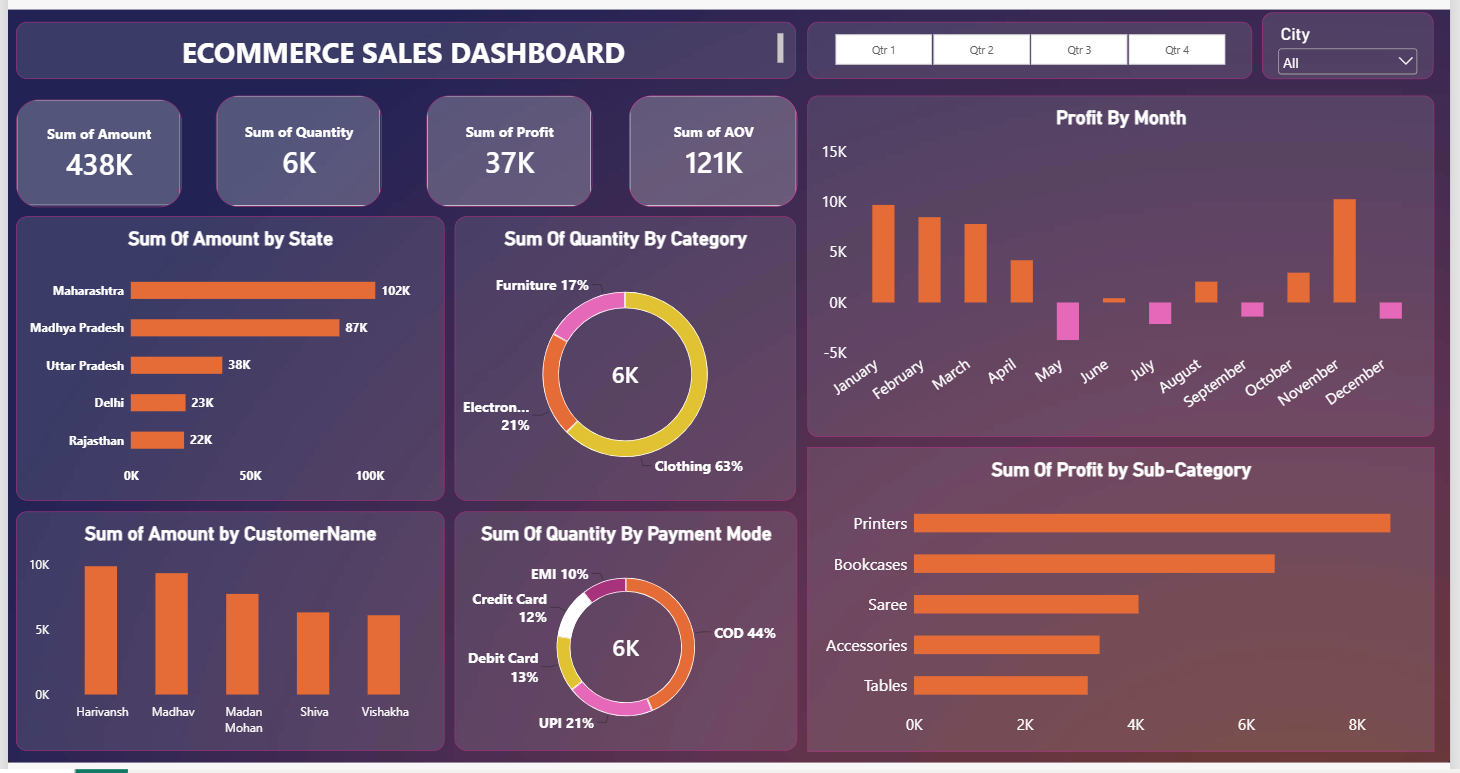

Layout of this report page (visuals, bound fields, positions):
{"tool":"powerbi","page":{"name":"Page 1","canvas":[1920,1080],"ordinal":0},"visuals":[{"type":"textbox","box":[10,0,280,280],"z":0},{"type":"textbox","box":[10.9,52.5,1038.7,76],"z":1000},{"type":"columnChart","title":"Profit By Month","fields":{"Category":["Orders.DATE.Variation.Date Hierarchy.Month"],"Y":["Sum(Details.Profit)"]},"box":[1064.1,150.2,834.3,454.2],"z":2000},{"type":"clusteredBarChart","title":"Sum Of Profit by Sub-Category","fields":{"Category":["Details.Sub-Category"],"Y":["Sum(Details.Profit)"]},"box":[1064.1,617.1,834.3,405.4],"z":3000},{"type":"donutChart","title":"Sum Of Quantity By Category","fields":{"Category":["Details.Category"],"Y":["Sum(Details.Quantity)"]},"box":[595.4,311.3,454.2,378.2],"z":4000},{"type":"donutChart","title":"Sum Of Quantity By Payment Mode","fields":{"Category":["Details.PaymentMode"],"Y":["Sum(Details.Quantity)"]},"box":[595.4,704,456,318.5],"z":5000},{"type":"cardVisual","fields":{"Data":["Sum(Details.Amount)"]},"box":[10.9,155.6,220.8,143],"z":6000},{"type":"cardVisual","fields":{"Data":["Sum(Details.Quantity)"]},"box":[276.9,150.2,220.8,148.4],"z":7000},{"type":"cardVisual","fields":{"Data":["Sum(Details.Profit)"]},"box":[557.4,150.2,220.8,148.4],"z":8000},{"type":"cardVisual","fields":{"Data":["Sum(Details.AOV)"]},"box":[827,150.2,224.4,148.4],"z":9000},{"type":"clusteredBarChart","title":"Sum Of Amount by State","fields":{"Category":["Orders.State"],"Y":["Sum(Details.Amount)"]},"box":[10.9,311.3,570,378.2],"z":10000},{"type":"clusteredColumnChart","fields":{"Category":["Orders.CustomerName"],"Y":["Sum(Details.Amount)"]},"box":[10.9,704,570,318.5],"z":11000},{"type":"slicer","fields":{"Values":["Orders.City"]},"box":[1670.3,39.8,228,88.7],"z":12000},{"type":"slicer","fields":{"Values":["Orders.DATE.Variation.Date Hierarchy.Quarter"]},"box":[1064.1,52.5,591.8,76],"z":13000}]}

Visuals, with their boxes on the page's 1920x1080 design canvas (x1, y1, x2, y2). These are canvas units, not pixel positions in the 1460x773 screenshot, which may show the page scaled, cropped or inside an application window:
textbox: [10,0,290,280]
textbox: [11,52,1050,128]
"Profit By Month" columnChart: [1064,150,1898,604]
"Sum Of Profit by Sub-Category" clusteredBarChart: [1064,617,1898,1022]
"Sum Of Quantity By Category" donutChart: [595,311,1050,690]
"Sum Of Quantity By Payment Mode" donutChart: [595,704,1051,1022]
cardVisual - Sum(Details.Amount): [11,156,232,299]
cardVisual - Sum(Details.Quantity): [277,150,498,299]
cardVisual - Sum(Details.Profit): [557,150,778,299]
cardVisual - Sum(Details.AOV): [827,150,1051,299]
"Sum Of Amount by State" clusteredBarChart: [11,311,581,690]
clusteredColumnChart - Orders.CustomerName x Sum(Details.Amount): [11,704,581,1022]
slicer - Orders.City: [1670,40,1898,128]
slicer - Orders.DATE.Variation.Date Hierarchy.Quarter: [1064,52,1656,128]
